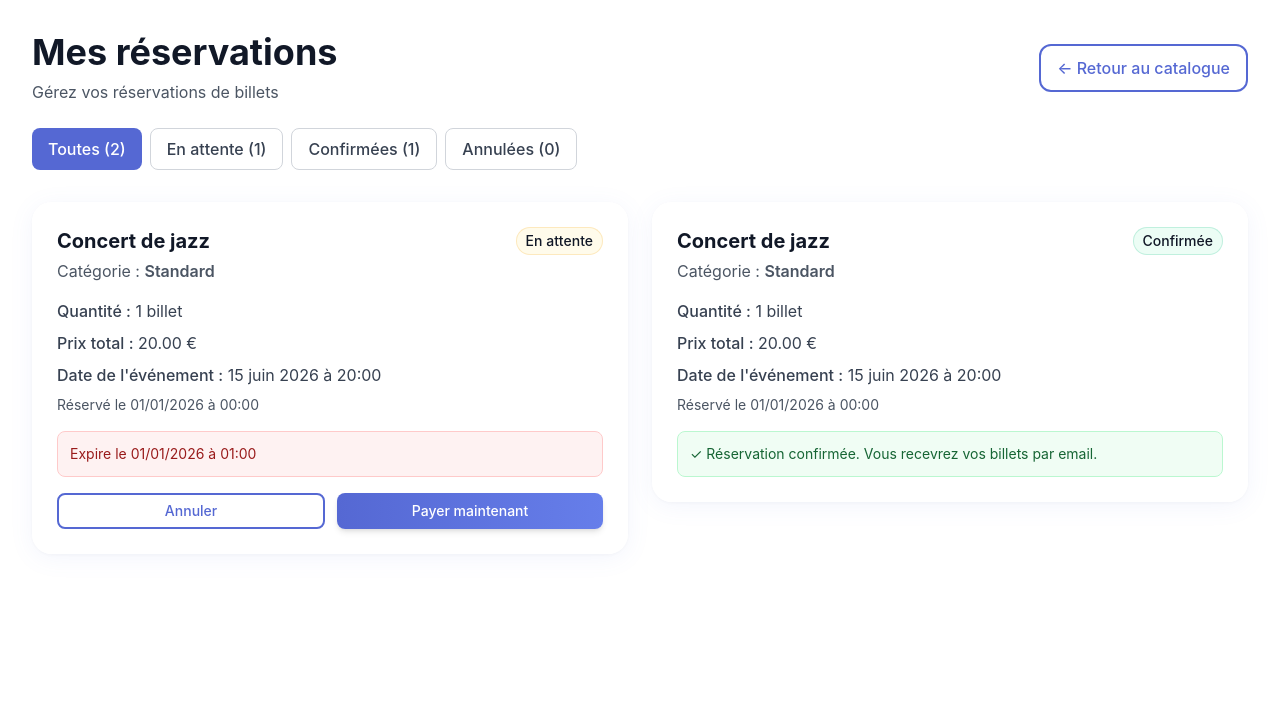
Test: BookingsPage - listing and filters › filters bookings by status
Expected: the button "Toutes (2)" is shown, [32,128,142,170]
What coordinates should you click on to do the following:
click the button "Confirmées (1)"
I would click on:
 (364, 149)
Its box is [292,128,437,170].
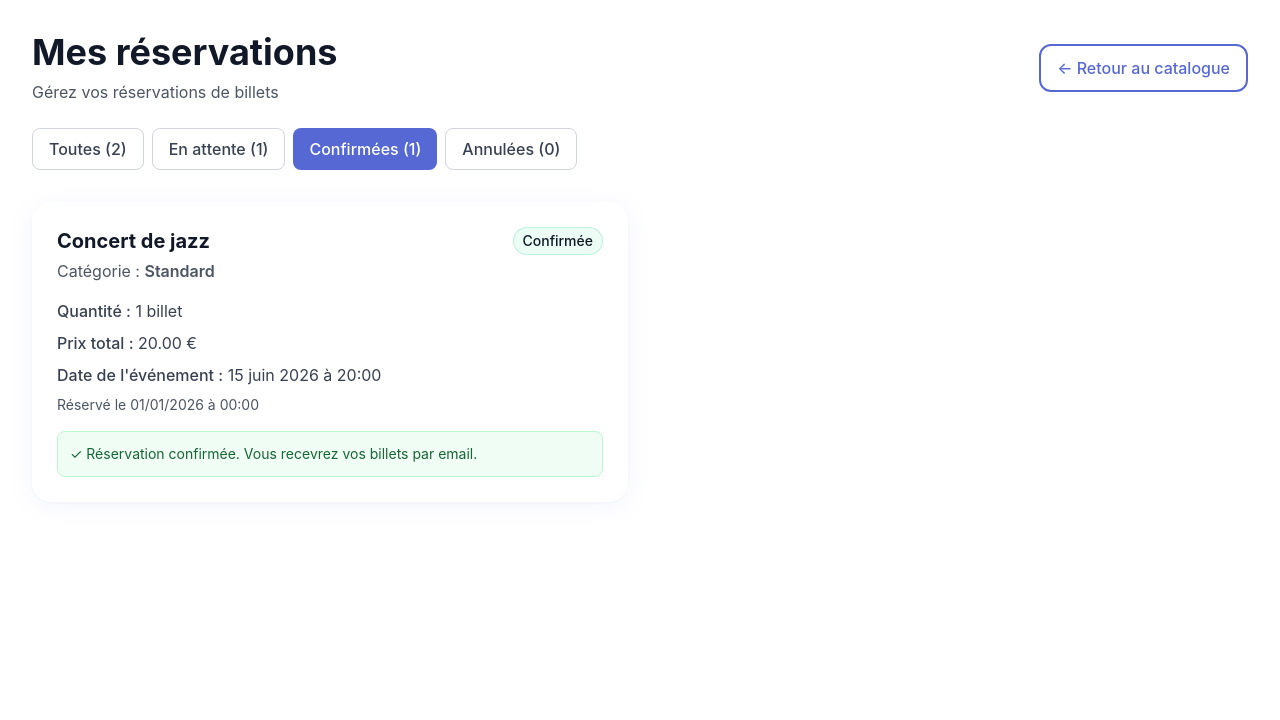
Expected: the number of list items is 1, [32,202,628,502]
